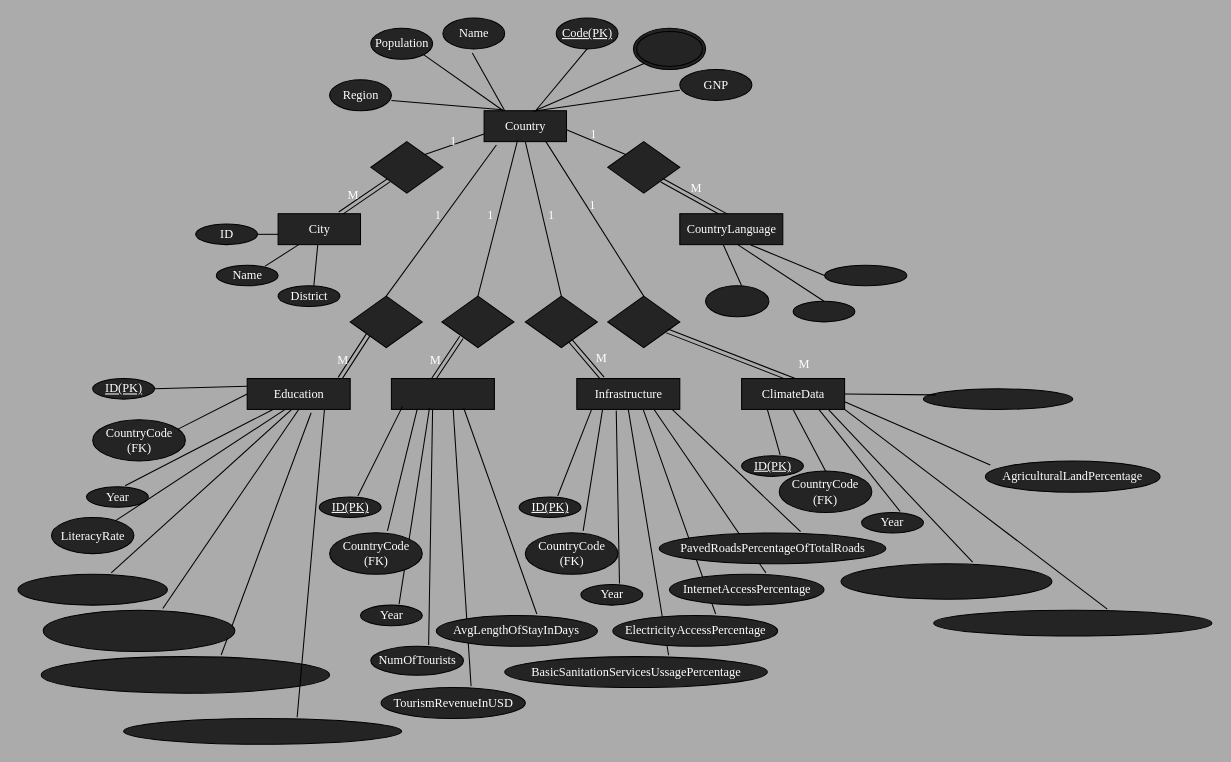
Some shapes in this 1231 by 762 pixel diagram are drawn without their labels. Each missing label, with the box of its shape:
AnnualFossilFuelAndIndustryCO2Emissions: (933, 609, 1212, 636)
AvgPrecipitationMillimetersPerYear: (840, 563, 1052, 599)
AvgYearsOfSchooling: (17, 573, 167, 605)
Contains: (370, 141, 443, 193)
Continent: (632, 27, 706, 70)
EducationExpenditurePercentage: (42, 609, 235, 651)
ForestAreaPercentage: (922, 388, 1073, 409)
Has: (349, 295, 422, 348)
IsOfficial: (792, 300, 855, 322)
Language: (705, 285, 769, 317)
Measures: (524, 295, 597, 348)
Percentage: (823, 264, 907, 286)
PrimarySchoolEnrollmentNetPercantage: (40, 656, 330, 693)
Records: (607, 295, 680, 348)
SecondarySchoolEnrollmentGrossPercentage: (123, 717, 402, 744)
Speaks: (607, 141, 680, 193)
Tourism: (390, 377, 494, 409)
Tracks: (441, 295, 514, 348)
